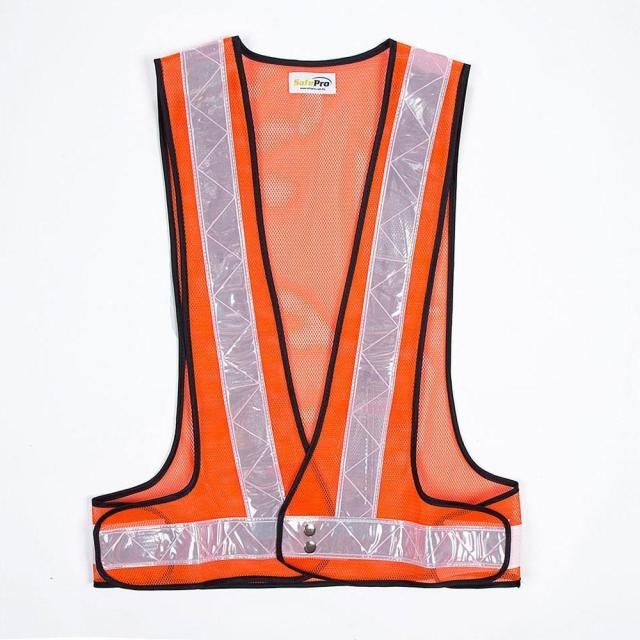Vest: (87, 34, 524, 594)
